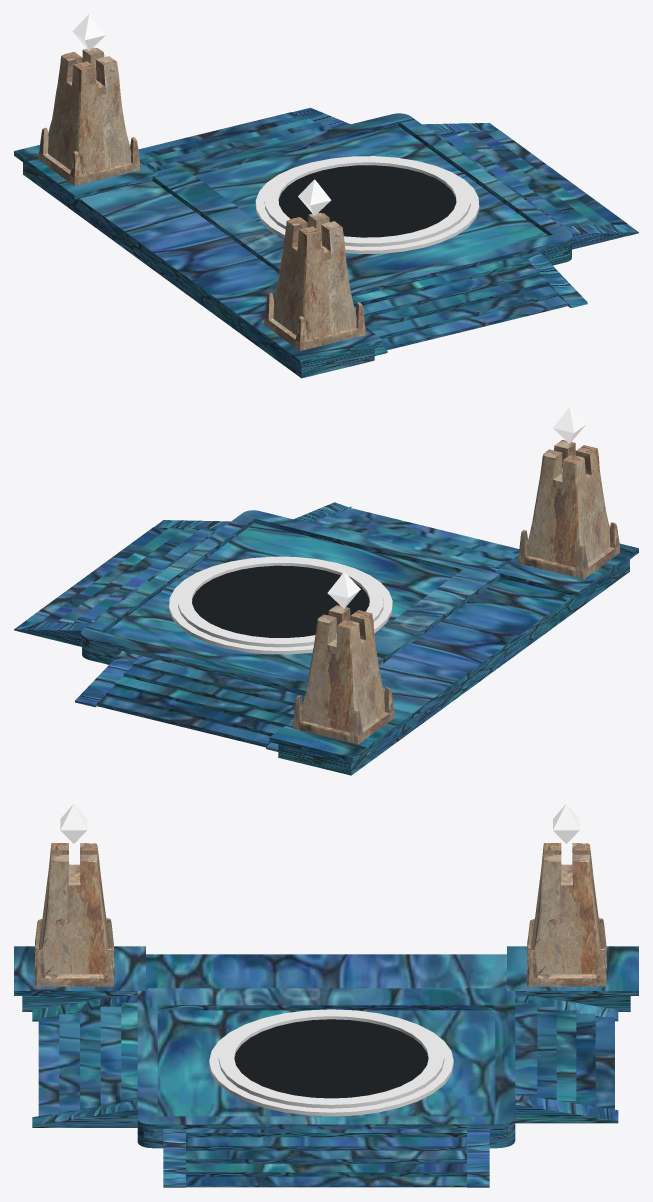
File: Base_floor_model.glb
3 views of the same model, one above another, from view 1: azimuth 30°, elevation 25°; view 2: azimuth 150°, elevation 25°; view 3: azimuth 270°, elevation 25° (orthographic). The views are drawn at different scales.
Parts seen in each view (by area): view 1: Base, Circle, Cube.001, Cube.002; view 2: Base, Circle, Cube.002, Cube.001; view 3: Base, Circle, Cube.002, Cube.001.
Boxes of the visible parts, x1=… form: Base: x1=14, y1=107, x2=638, y2=378; Circle: x1=255, y1=156, x2=479, y2=253; Cube.001: x1=264, y1=179, x2=365, y2=350; Cube.002: x1=38, y1=14, x2=139, y2=185; Base: x1=14, y1=502, x2=638, y2=775; Circle: x1=169, y1=556, x2=392, y2=654; Cube.002: x1=292, y1=572, x2=394, y2=744; Cube.001: x1=517, y1=407, x2=619, y2=579; Base: x1=14, y1=946, x2=638, y2=1187; Circle: x1=209, y1=1009, x2=453, y2=1116; Cube.002: x1=527, y1=804, x2=606, y2=986; Cube.001: x1=34, y1=804, x2=114, y2=986.
Size of the model in its own units: 26.42 by 10.7 by 32.16.
Materials: 5 (3 with a texture image).
